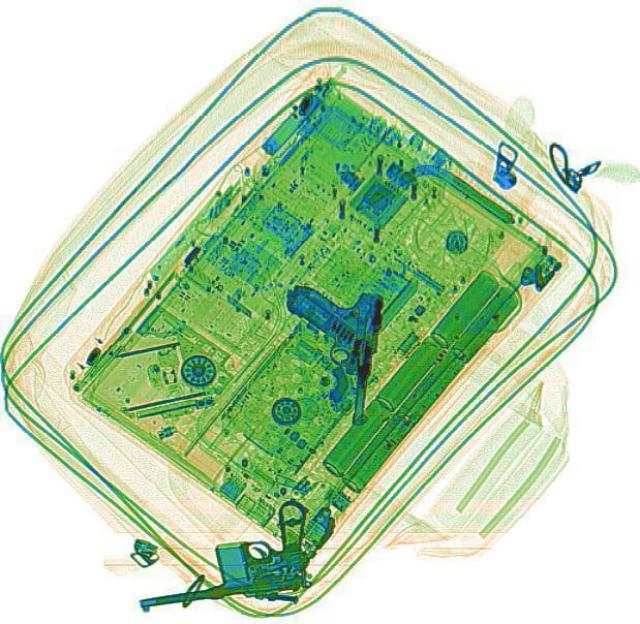Gun: (122, 493, 318, 609), (270, 281, 384, 421)
